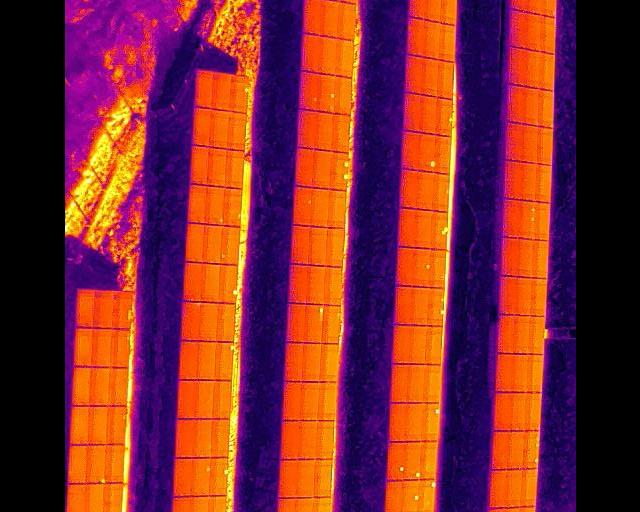Cell: (213, 343, 233, 381), (85, 445, 105, 483), (293, 188, 312, 225), (223, 188, 241, 226), (208, 457, 226, 495), (386, 442, 404, 480), (421, 403, 439, 441), (190, 458, 208, 495), (219, 265, 236, 304), (207, 187, 224, 226), (300, 73, 318, 109), (219, 228, 237, 264), (305, 305, 322, 343), (403, 441, 420, 479), (412, 249, 429, 287), (434, 99, 451, 135), (417, 135, 434, 171), (230, 76, 246, 113), (432, 175, 448, 211), (417, 480, 434, 512), (400, 480, 417, 512), (207, 496, 224, 512)
Cell-Multi: (522, 431, 539, 469), (317, 74, 334, 111), (329, 153, 346, 190), (426, 288, 442, 325), (517, 202, 533, 238), (430, 213, 446, 249)
No-Anomaly: (211, 380, 231, 419), (178, 341, 198, 379), (177, 380, 196, 419), (210, 419, 229, 458), (87, 405, 106, 444), (91, 328, 110, 367), (281, 421, 300, 459), (294, 148, 313, 186), (184, 263, 203, 301), (104, 445, 123, 483), (89, 367, 108, 405), (75, 289, 94, 327), (518, 468, 537, 506), (108, 368, 127, 406), (192, 109, 211, 146), (175, 418, 193, 457), (292, 226, 310, 265), (289, 265, 307, 304), (192, 419, 210, 458), (419, 441, 437, 480), (74, 327, 92, 366), (69, 406, 87, 445), (106, 406, 124, 445), (528, 278, 546, 316), (186, 224, 204, 262), (188, 186, 206, 224), (190, 146, 208, 184), (287, 304, 305, 342), (173, 458, 191, 496), (531, 240, 549, 278), (207, 148, 225, 186), (213, 72, 231, 110), (296, 111, 315, 147), (195, 69, 213, 107), (490, 432, 508, 470), (67, 445, 85, 483), (423, 327, 441, 365), (503, 161, 521, 199), (111, 329, 129, 367), (72, 367, 90, 405), (496, 315, 514, 353), (492, 393, 510, 431), (395, 248, 413, 286), (422, 364, 440, 402), (398, 170, 416, 208), (393, 286, 411, 323), (391, 326, 409, 363), (94, 290, 112, 327), (397, 210, 415, 247), (204, 225, 221, 264), (183, 302, 200, 341), (200, 303, 217, 342), (498, 237, 515, 276), (388, 403, 405, 442), (404, 403, 421, 442), (507, 431, 524, 470), (526, 354, 543, 393), (300, 35, 318, 71), (404, 57, 422, 93), (326, 191, 344, 227), (402, 94, 420, 130), (197, 342, 214, 380), (217, 304, 234, 342), (286, 343, 303, 381), (303, 344, 320, 382), (210, 110, 227, 148), (280, 459, 297, 497), (195, 381, 212, 419), (283, 382, 300, 420), (513, 277, 530, 315), (308, 227, 325, 265), (524, 392, 541, 430), (489, 470, 506, 508), (408, 326, 425, 364), (314, 459, 331, 497), (504, 123, 521, 161), (519, 162, 536, 200), (504, 470, 521, 508), (495, 354, 512, 392), (203, 264, 219, 304), (337, 3, 355, 38), (317, 38, 335, 73), (438, 25, 456, 60), (335, 40, 353, 75), (225, 151, 242, 188), (536, 90, 553, 127), (538, 16, 555, 53), (538, 52, 555, 89), (334, 77, 351, 114), (527, 317, 544, 354), (500, 200, 517, 237), (509, 392, 525, 431), (509, 10, 525, 49), (326, 228, 342, 267), (391, 364, 407, 403), (535, 128, 552, 164), (330, 115, 347, 151), (523, 13, 540, 49), (401, 133, 418, 169), (308, 266, 324, 304), (298, 459, 314, 497), (535, 164, 551, 202), (300, 421, 316, 459), (301, 382, 317, 420), (313, 150, 329, 188), (316, 420, 332, 458), (428, 250, 444, 288), (325, 267, 341, 305), (511, 354, 527, 392), (406, 365, 422, 403), (498, 277, 514, 315), (513, 316, 529, 354), (516, 238, 531, 278), (520, 89, 537, 124), (420, 60, 437, 95), (423, 22, 440, 57), (406, 19, 423, 54), (419, 96, 436, 131), (506, 86, 523, 121), (303, 0, 321, 33), (228, 113, 244, 150), (311, 189, 327, 226), (321, 344, 337, 381), (416, 172, 432, 209), (316, 113, 332, 150), (318, 383, 334, 420), (322, 0, 338, 36), (410, 288, 426, 324), (383, 480, 401, 512), (415, 211, 431, 247), (323, 305, 338, 343), (437, 63, 453, 98), (508, 49, 524, 84), (535, 203, 550, 240), (521, 125, 536, 162), (434, 136, 449, 173), (65, 483, 84, 512), (524, 51, 539, 87), (84, 484, 103, 512), (103, 484, 122, 512), (439, 0, 456, 23), (424, 0, 440, 20), (189, 495, 207, 512), (408, 0, 425, 17), (171, 497, 189, 512), (295, 498, 312, 512), (279, 498, 296, 512), (541, 0, 556, 15), (313, 498, 329, 512), (527, 0, 542, 13), (508, 0, 526, 9)
Unclassified: (112, 291, 131, 328)
